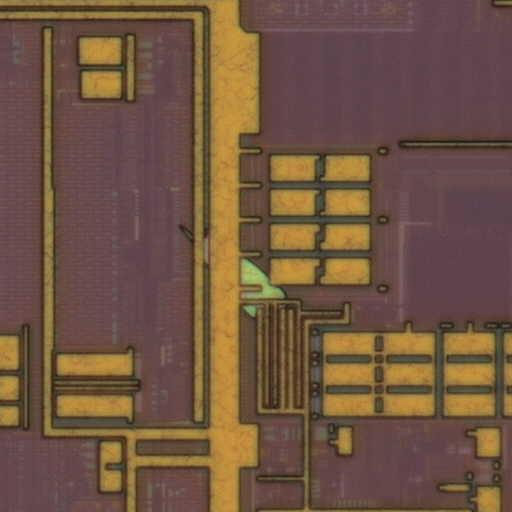BLOCK ETCH: (176, 221, 290, 329)
